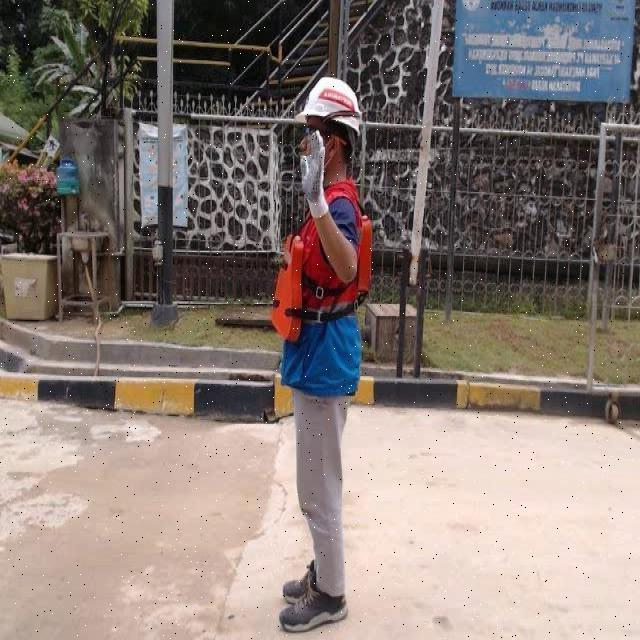Hard_hat: (294, 78, 368, 144)
